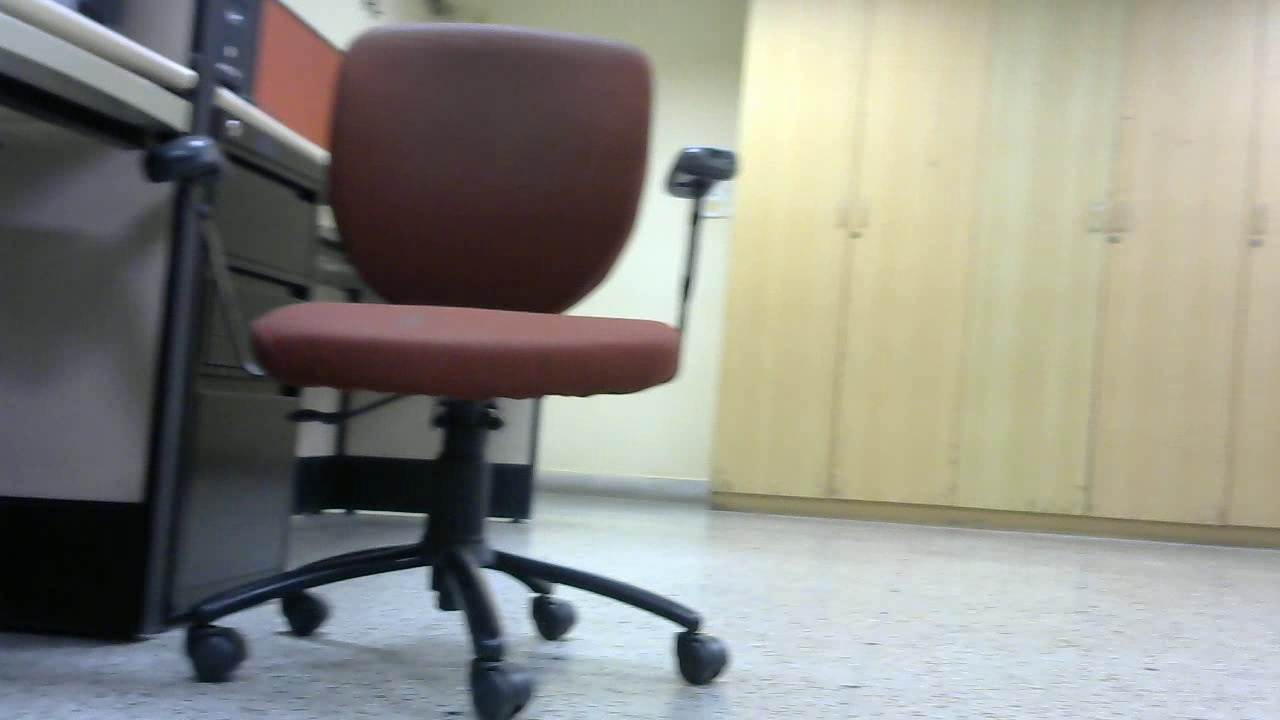chair: (601, 234, 873, 580), (236, 195, 410, 528)
